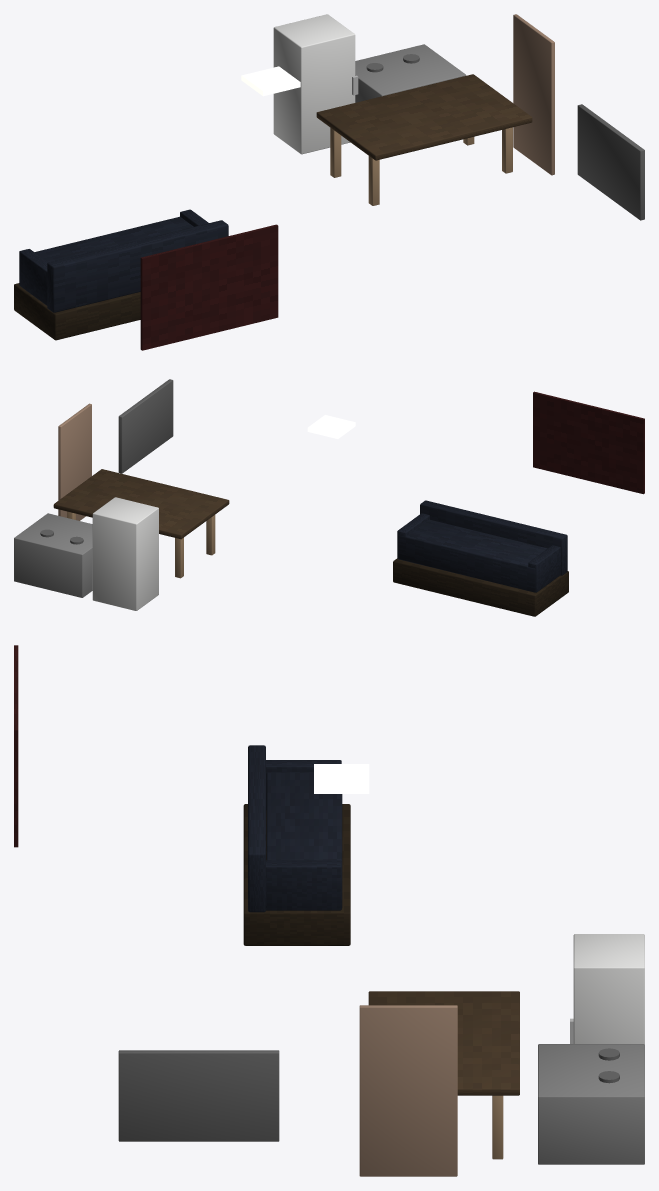
Rendered from apt_kit.glb.
The picture shows the model from 3 angles, top to bottom: view 1: azimuth 30°, elevation 25°; view 2: azimuth 150°, elevation 25°; view 3: azimuth 270°, elevation 25°; orthographic projection. The views are drawn at different scales.
Visible parts, largest first — view 1: carpet, table, fridge, back, door, tv, sofaBase, stove, seat, armL, ceilLamp, tleg2 (+2 smaller); view 2: carpet, fridge, seat, table, stove, sofaBase, tv, back, door, armL, ceilLamp, armR (+2 smaller); view 3: door, tv, stove, table, fridge, seat, sofaBase, armR, back, ceilLamp, carpet, tleg3 (+1 smaller).
Part boxes in pixels (x1,y1,x2,y2): carpet: (140, 224, 278, 350); table: (316, 74, 532, 160); fridge: (273, 14, 355, 154); back: (47, 220, 228, 312); door: (513, 14, 554, 175); tv: (577, 104, 644, 220); sofaBase: (14, 283, 140, 340); stove: (355, 44, 466, 102); seat: (34, 216, 193, 262); armL: (19, 249, 47, 305); ceilLamp: (241, 66, 300, 96); tleg2: (368, 156, 379, 205); carpet: (533, 391, 644, 494); fridge: (92, 497, 158, 610); seat: (398, 519, 547, 592); table: (53, 469, 229, 539); stove: (14, 513, 92, 597); sofaBase: (393, 558, 568, 616); tv: (118, 379, 173, 473); back: (420, 500, 567, 575); door: (58, 403, 91, 520); armL: (528, 545, 560, 592); ceilLamp: (307, 415, 355, 438); armR: (397, 513, 429, 558); door: (359, 1005, 457, 1176); tv: (118, 1050, 279, 1141); stove: (538, 1044, 644, 1164); table: (368, 991, 519, 1095); fridge: (573, 934, 644, 1044); seat: (266, 772, 342, 908); sofaBase: (243, 804, 350, 945); armR: (266, 860, 341, 910); back: (248, 745, 265, 912); ceilLamp: (314, 764, 369, 793); carpet: (14, 645, 18, 847); tleg3: (492, 1095, 503, 1159).
Bounding box in the file's own units: 9.06 × 2.73 × 7.07.
13 materials, 4 textured.
